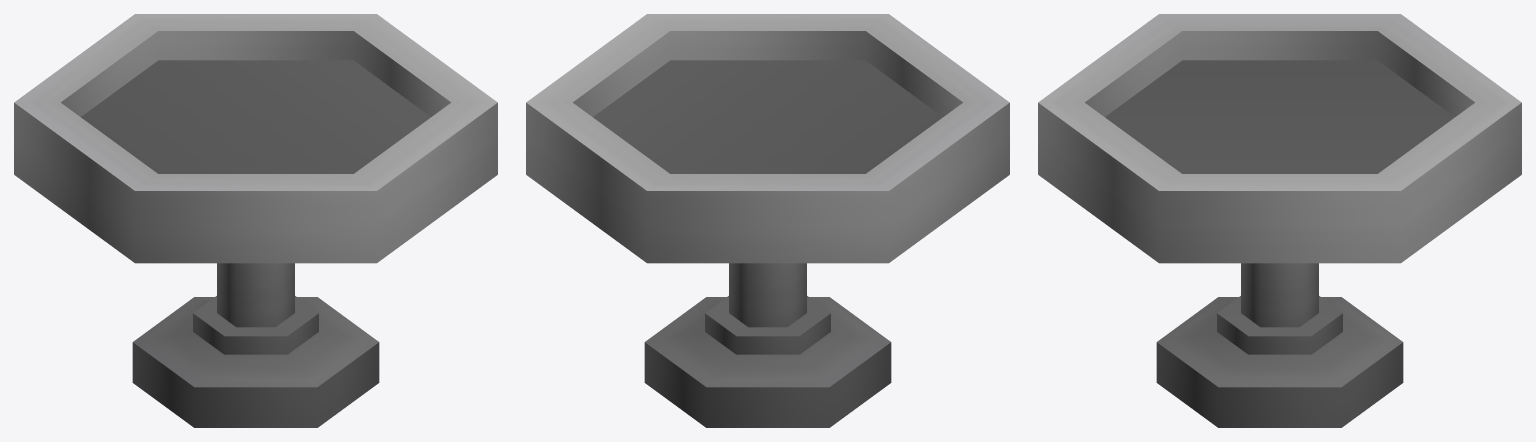
Rendered from FoodProp_1_B.fbx.
3 views of the same model, side by side, from view 1: azimuth 30°, elevation 25°; view 2: azimuth 150°, elevation 25°; view 3: azimuth 270°, elevation 25° (orthographic).
Visible parts, largest first — view 1: FoodProp_1_B; view 2: FoodProp_1_B; view 3: FoodProp_1_B.
Part boxes in pixels (x1,y1,x2,y2): FoodProp_1_B: [14, 14, 497, 427]; FoodProp_1_B: [526, 14, 1009, 427]; FoodProp_1_B: [1038, 14, 1521, 427].
Bounding box in the file's own units: 49.95 × 36.88 × 57.67.
